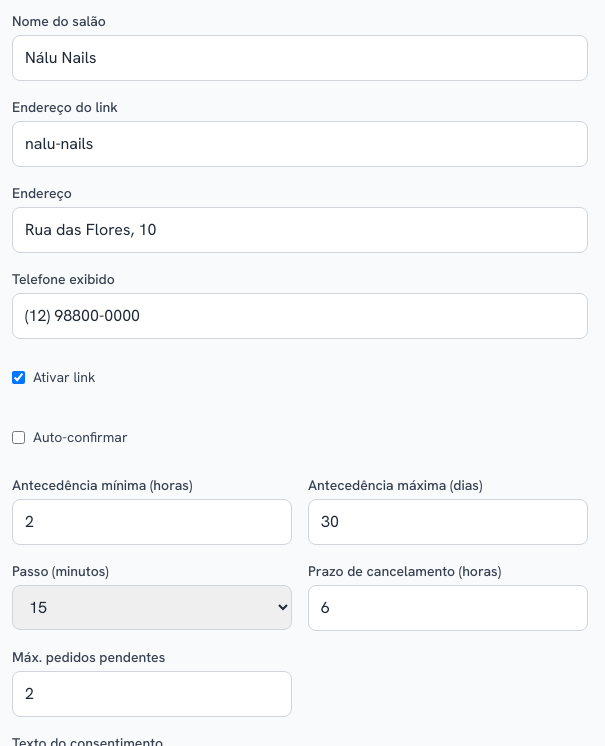
Test case: BookingLinkTab › valida o slug antes de salvar
The width and height of the screenshot is (605, 746).
Step 1. Replace the text in the field labelled "Endereço do link" with "AB" → coordinates (300, 144), box [12, 121, 588, 167]
(page scrolled)
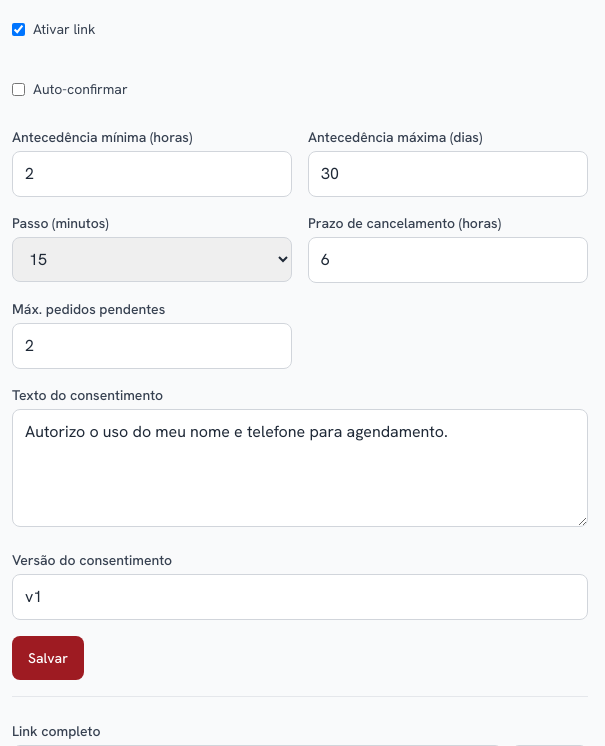
Step 2. Click the button "Salvar" → coordinates (48, 658), box [12, 636, 84, 680]
(page scrolled)
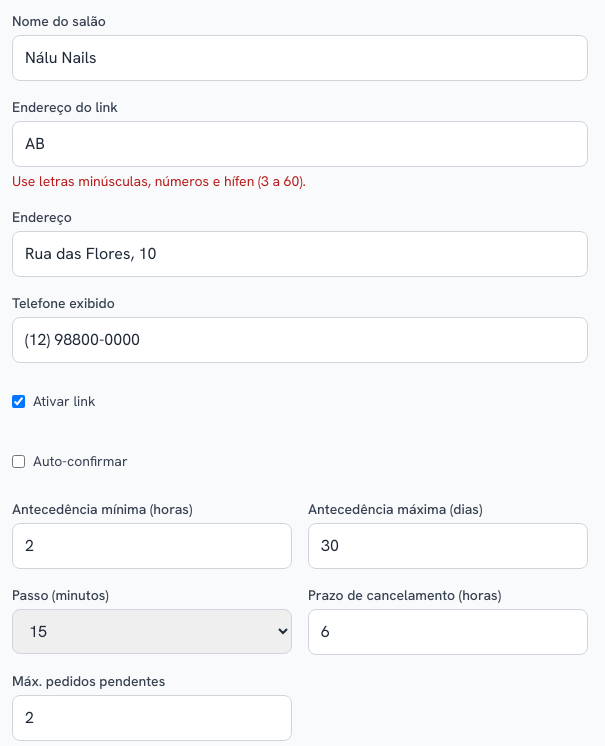
Expected: the text "Use letras minúsculas, números e hífen (3 a 60)." is shown, [12, 172, 306, 190]
